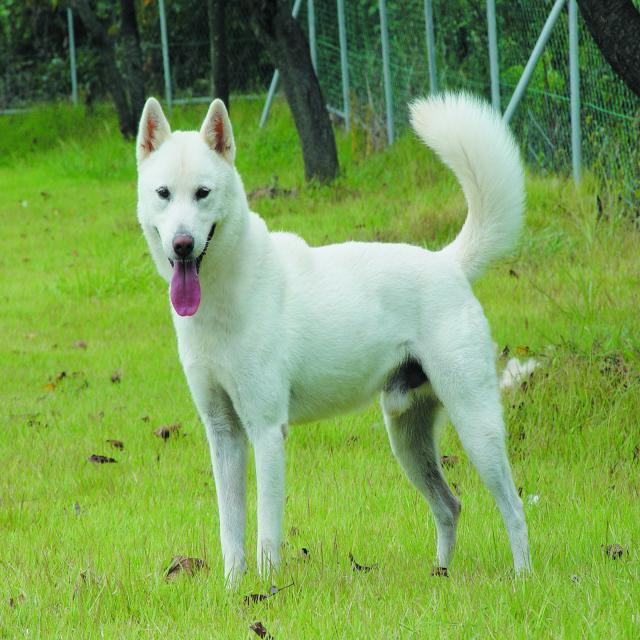dog: (98, 45, 562, 622)
